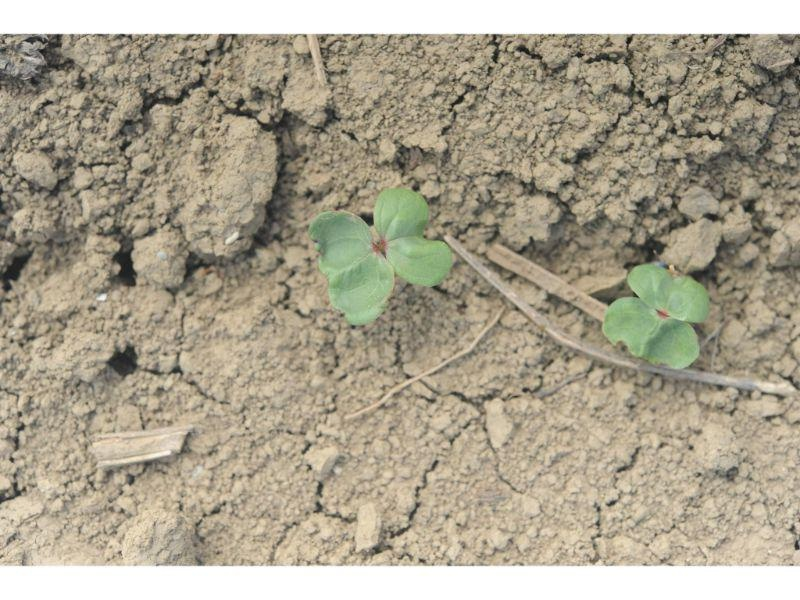cotton: (308, 189, 448, 327), (605, 261, 710, 371)
